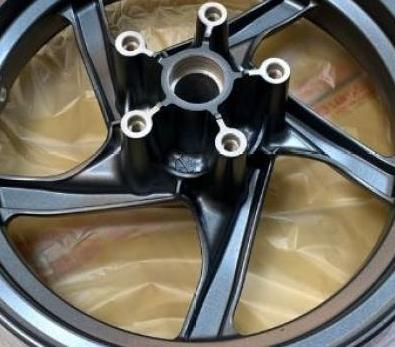hole: (121, 108, 155, 138), (259, 56, 290, 84), (114, 28, 145, 56), (216, 128, 245, 154), (200, 0, 225, 26)
